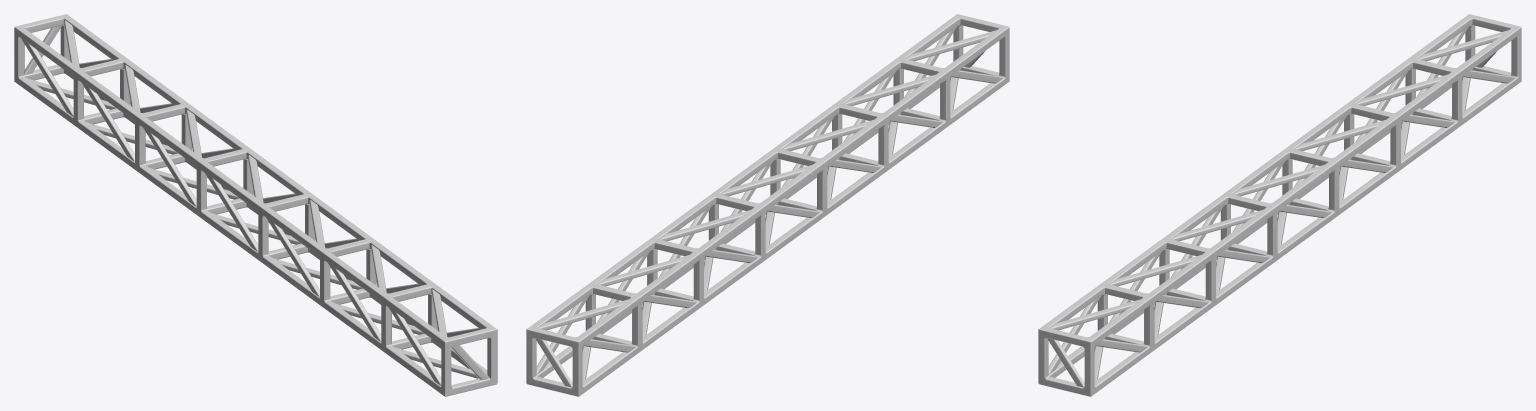
Rendered from truss_001.fbx.
The picture shows the model from 3 angles, left to right: view 1: azimuth 30°, elevation 25°; view 2: azimuth 150°, elevation 25°; view 3: azimuth 330°, elevation 25°; orthographic projection.
Parts seen in each view (by area): view 1: truss_001; view 2: truss_001; view 3: truss_001.
Part boxes in pixels (x1,y1,x2,y2): truss_001: [14, 14, 497, 396]; truss_001: [526, 14, 1009, 396]; truss_001: [1038, 14, 1521, 396].
Bounding box in the file's own units: 500 × 7000 × 500.
